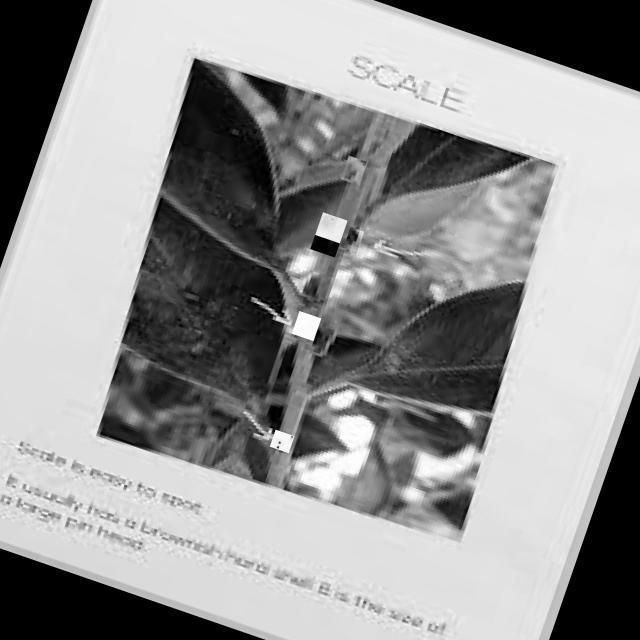scale_insect: (314, 212, 346, 243), (309, 228, 342, 257), (291, 310, 321, 340), (340, 156, 368, 186), (338, 226, 365, 254), (270, 429, 294, 453)
